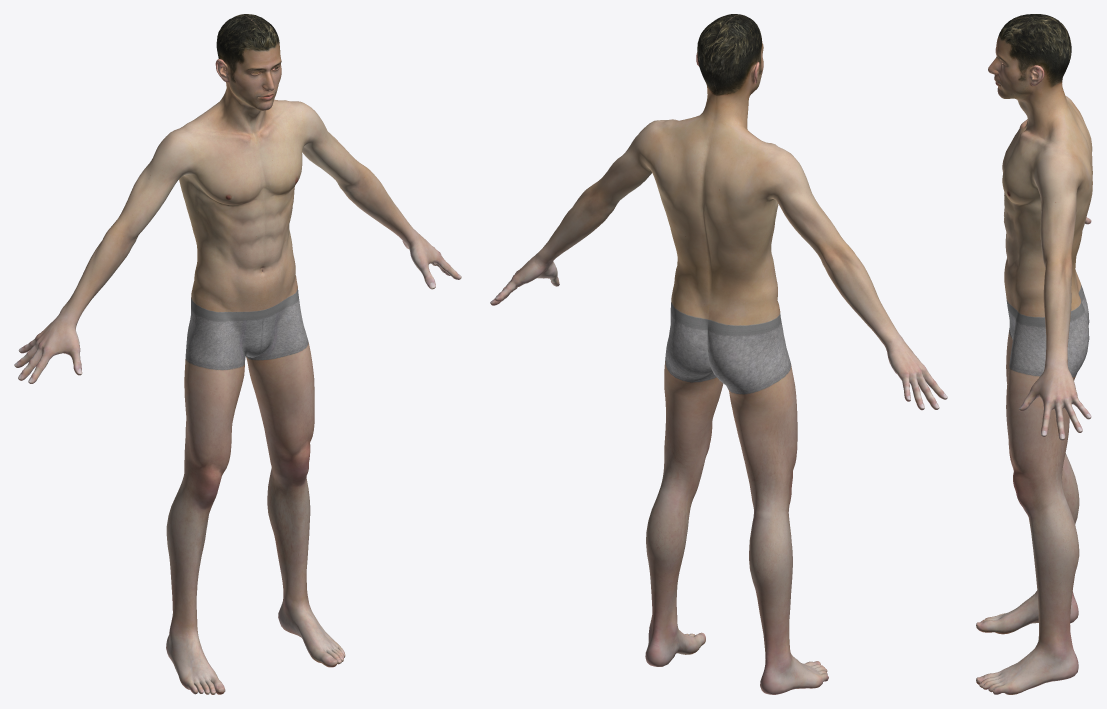
The model's file is body.gltf.
3 views of the same model, side by side, from view 1: azimuth 30°, elevation 25°; view 2: azimuth 150°, elevation 25°; view 3: azimuth 270°, elevation 25° (orthographic). The views are drawn at different scales.
Parts seen in each view (by area): view 1: body; view 2: body; view 3: body.
Part boxes in pixels (bbox=[...]): body: bbox=[14, 14, 461, 694]; body: bbox=[490, 14, 947, 694]; body: bbox=[976, 14, 1092, 694].
Bounding box in the file's own units: 136 × 192 × 31.62.
Materials: 3 (3 with a texture image).
